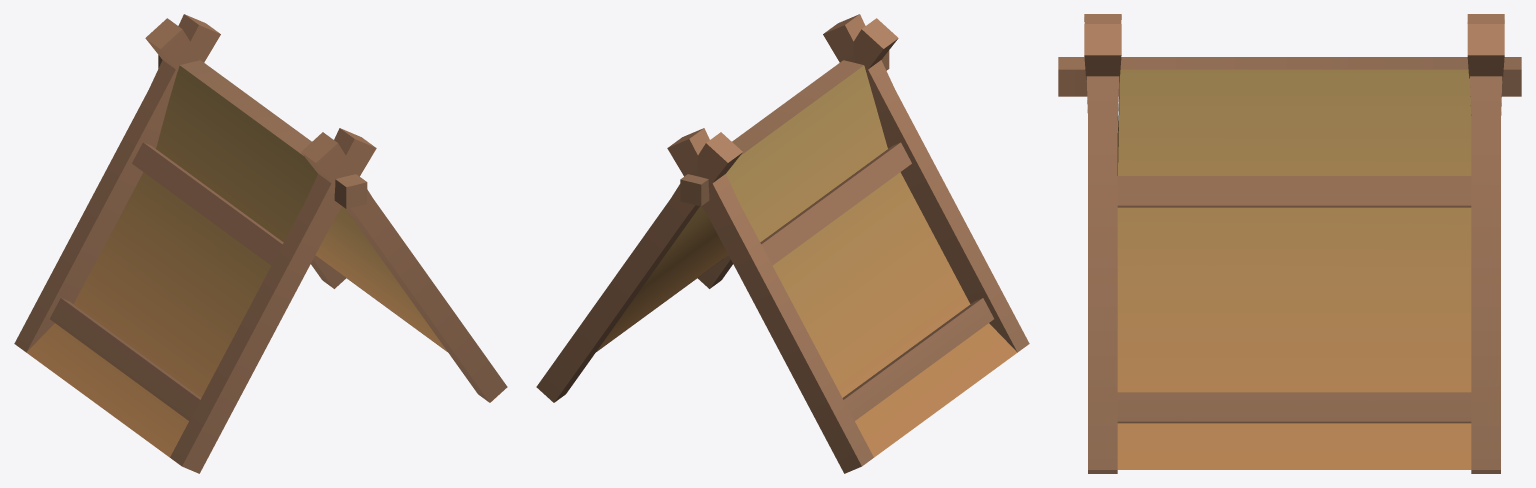
Rendered from tent-v2.glb.
The picture shows the model from 3 angles, left to right: view 1: azimuth 30°, elevation 25°; view 2: azimuth 150°, elevation 25°; view 3: azimuth 270°, elevation 25°; orthographic projection. The views are drawn at different scales.
Visible parts, largest first — view 1: tent-canvas, tent; view 2: tent-canvas, tent; view 3: tent-canvas, tent.
Boxes of the visible parts, box(x1,y1,x2,y2) form: tent-canvas: box(26, 65, 447, 457); tent: box(14, 14, 507, 473); tent-canvas: box(596, 65, 1017, 457); tent: box(536, 14, 1029, 473); tent-canvas: box(1117, 69, 1471, 469); tent: box(1058, 14, 1521, 473).
Size of the model in its own units: 0.5608 by 0.4914 by 0.561.
